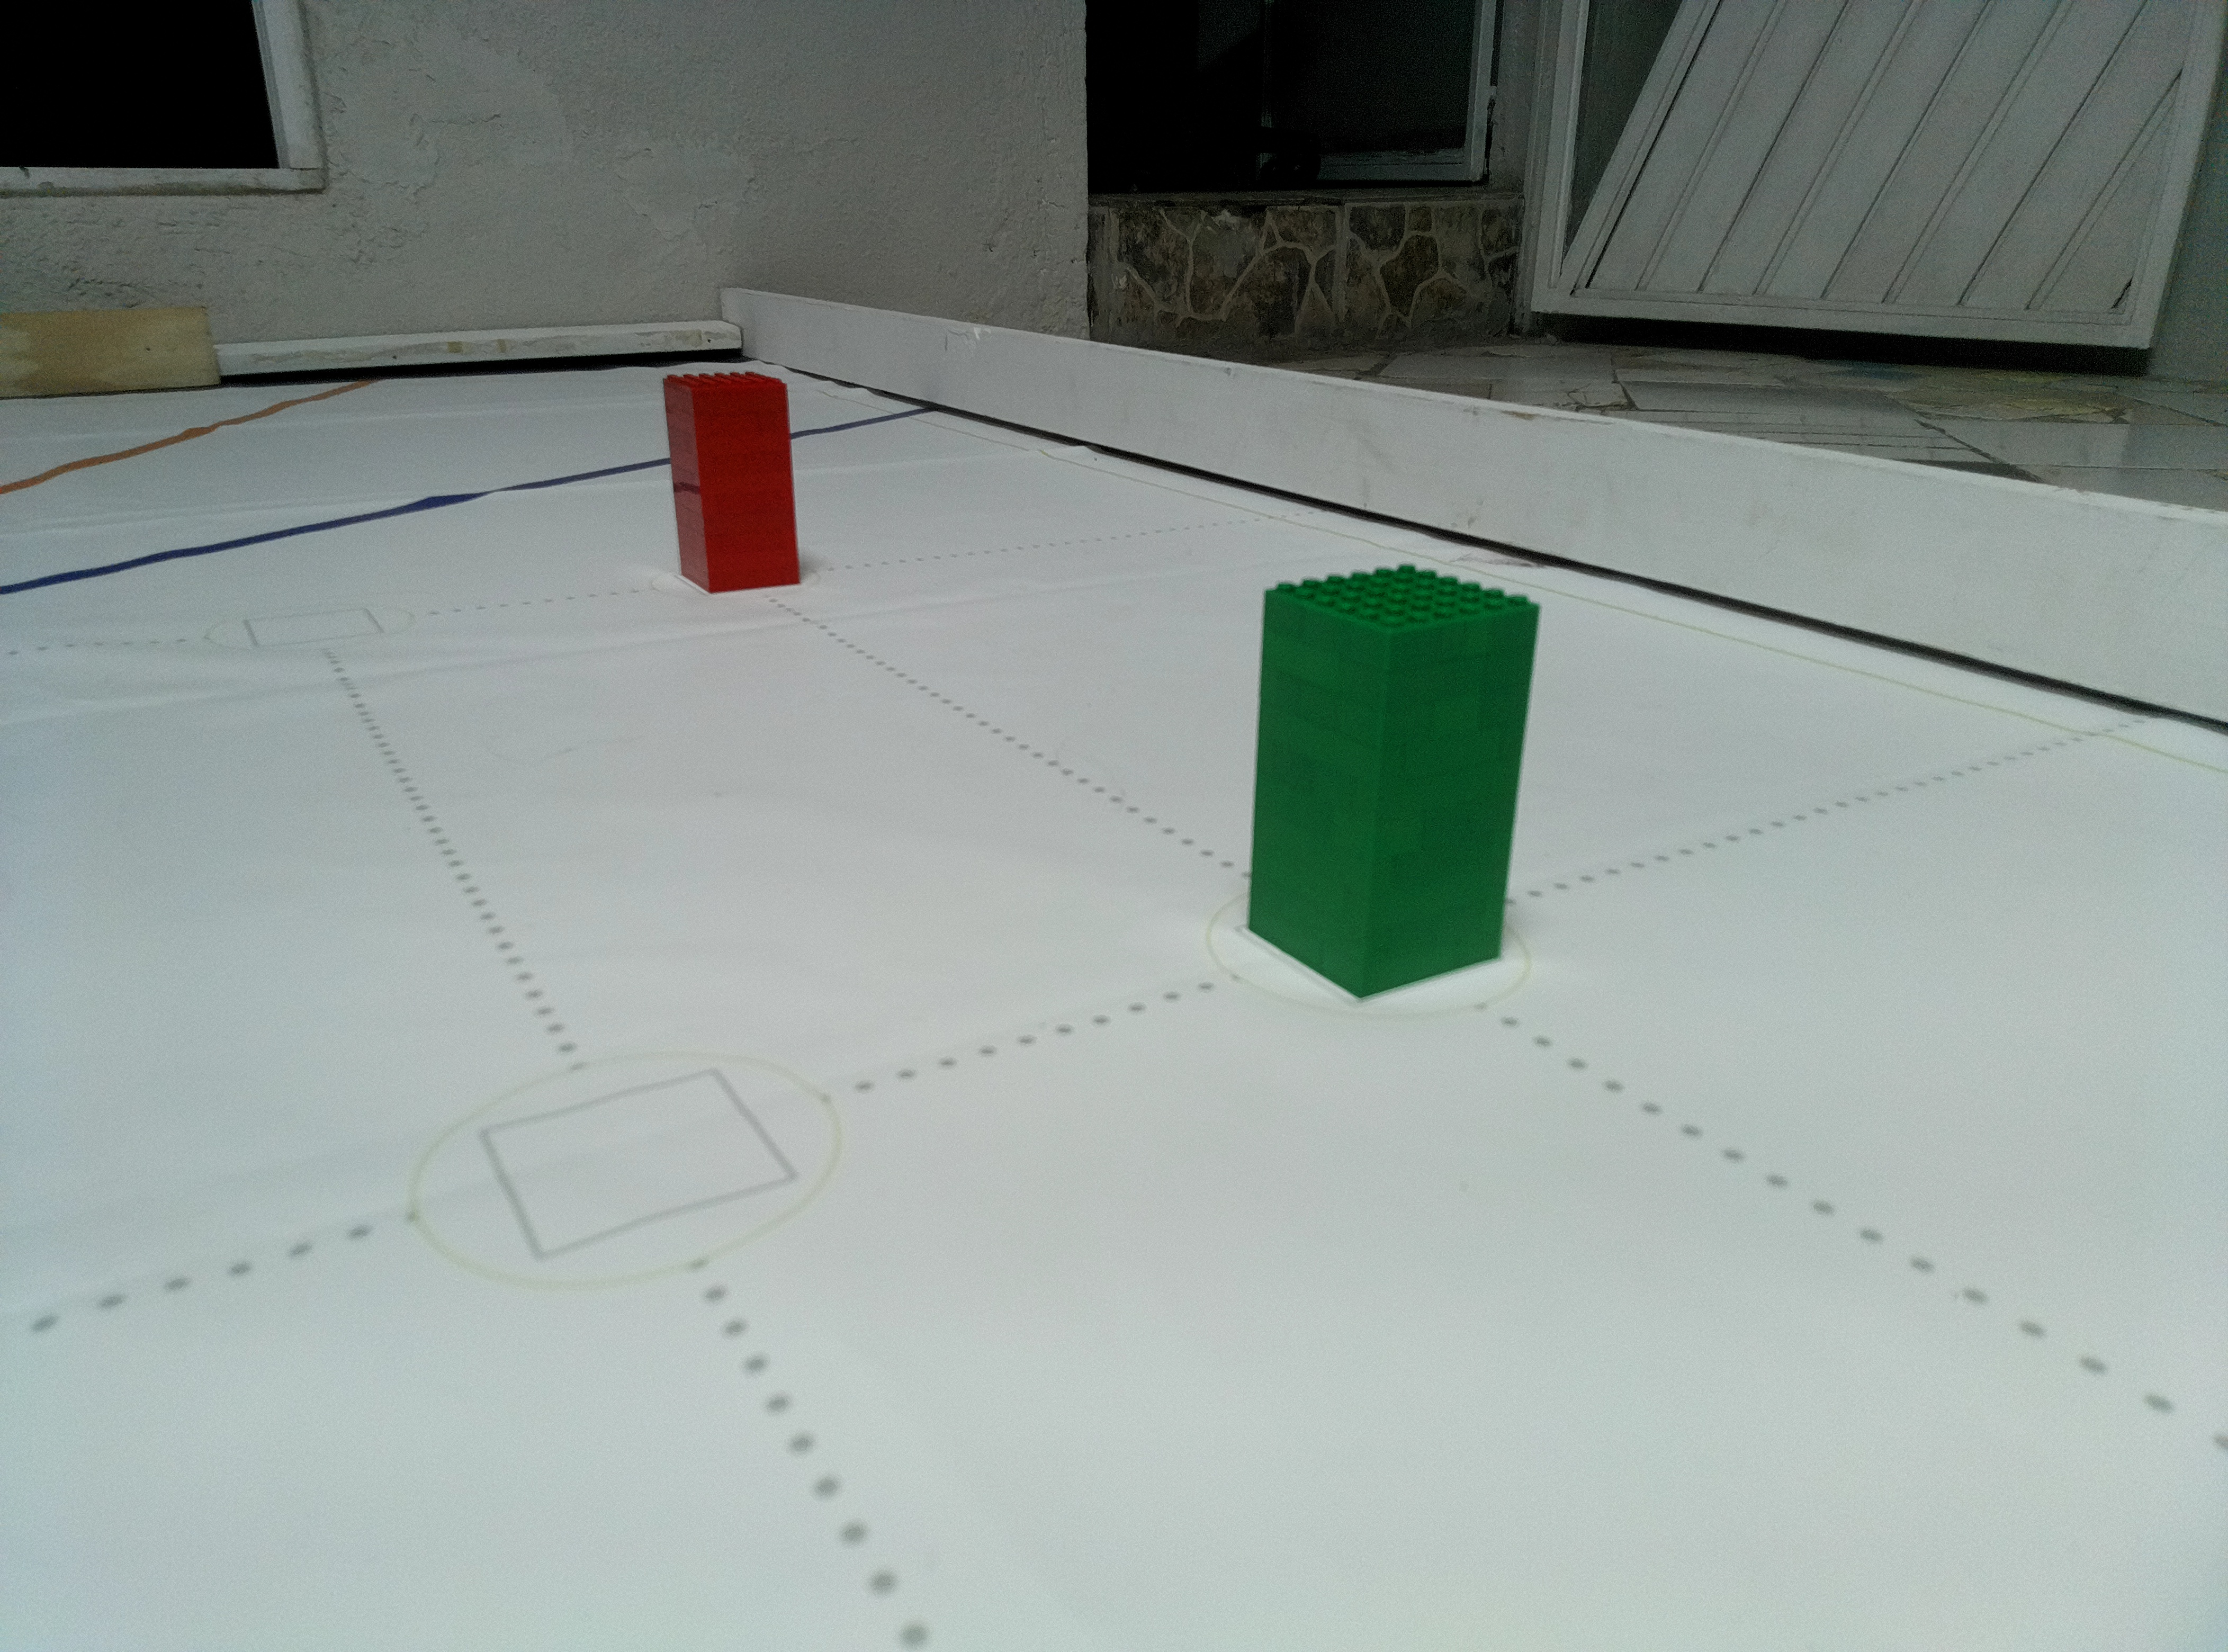greenbox: (1235, 559, 1546, 1012)
redbox: (659, 366, 803, 595)
